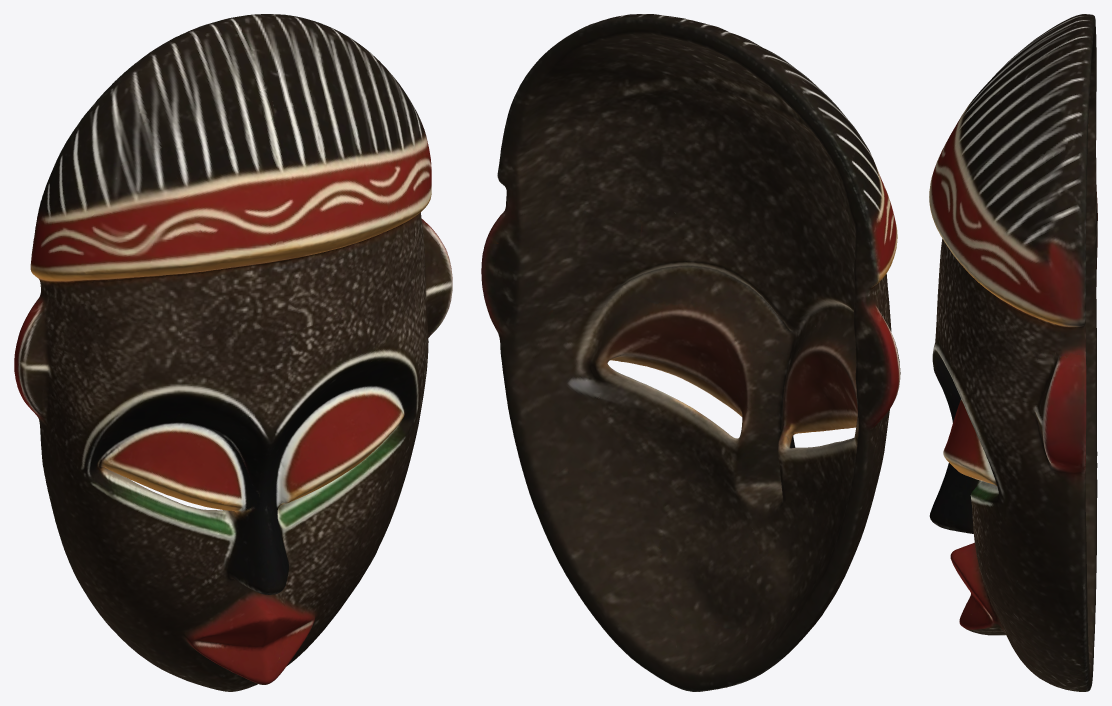
Rendered from african_tribal_mask_optimized.glb.
3 views of the same model, side by side, from view 1: azimuth 30°, elevation 25°; view 2: azimuth 150°, elevation 25°; view 3: azimuth 270°, elevation 25° (orthographic). The views are drawn at different scales.
Visible parts, largest first — view 1: Meshy_AI_African_Tribal_Mask_0916132242_texture.001; view 2: Meshy_AI_African_Tribal_Mask_0916132242_texture.001; view 3: Meshy_AI_African_Tribal_Mask_0916132242_texture.001.
Boxes of the visible parts, bbox=[...] form: Meshy_AI_African_Tribal_Mask_0916132242_texture.001: bbox=[14, 14, 452, 691]; Meshy_AI_African_Tribal_Mask_0916132242_texture.001: bbox=[481, 14, 900, 691]; Meshy_AI_African_Tribal_Mask_0916132242_texture.001: bbox=[929, 14, 1097, 691].
Size of the model in its own units: 0.907 by 1.38 by 0.325.
1 material, 1 textured.
